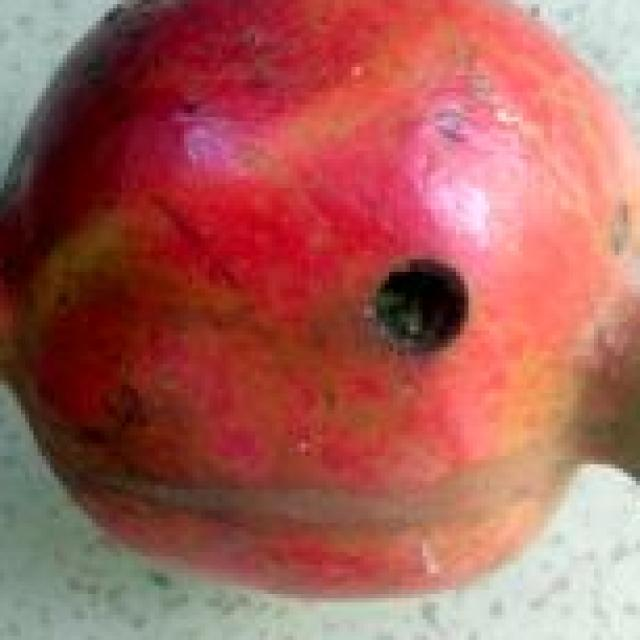Bad_Pomegranate-0-1-day: (0, 0, 640, 607)
